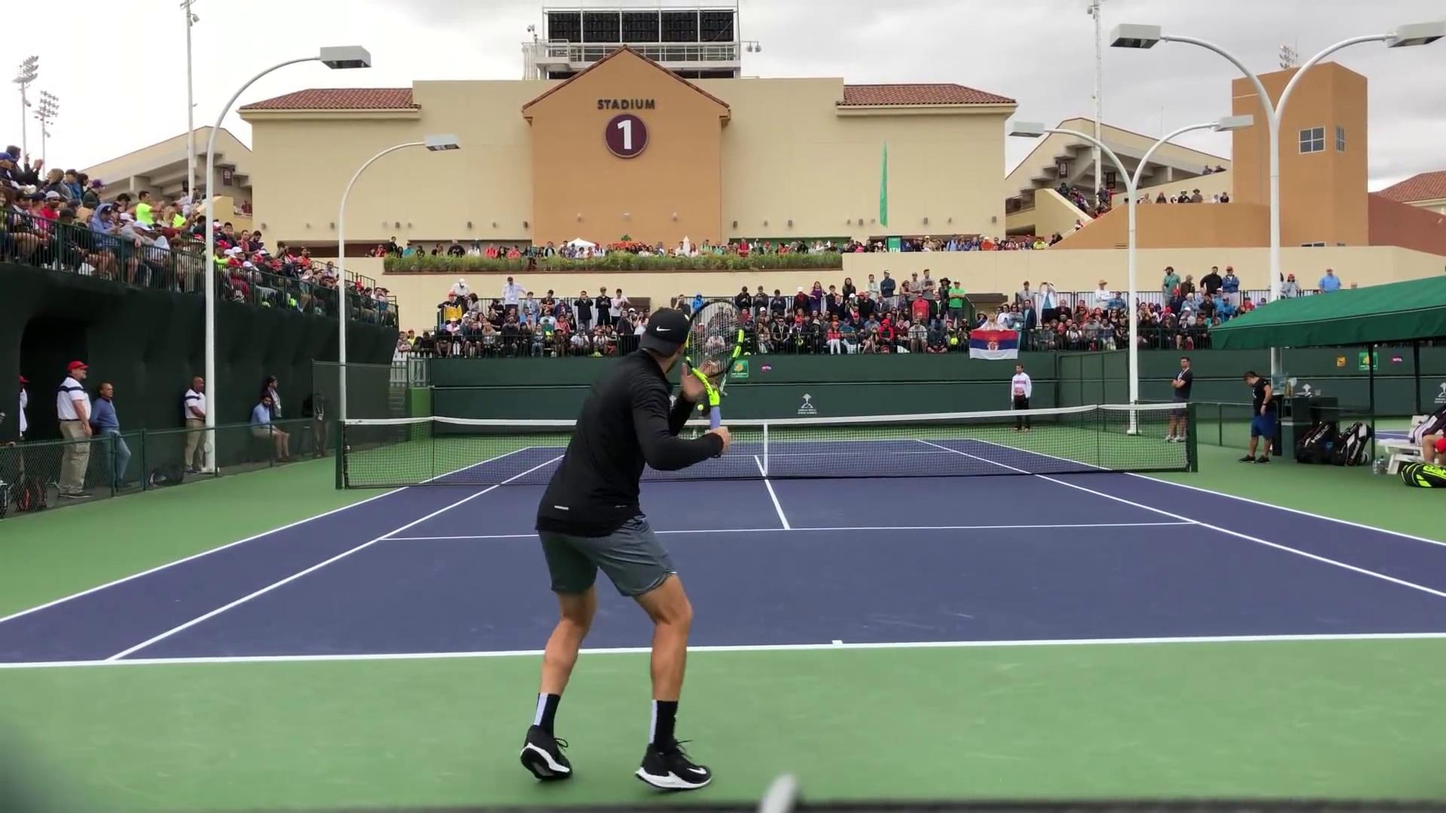ball: (565, 418, 579, 429), (696, 403, 704, 412)
